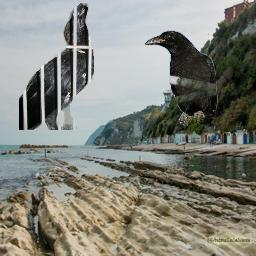Crow: (19, 3, 94, 130), (144, 30, 218, 126)
